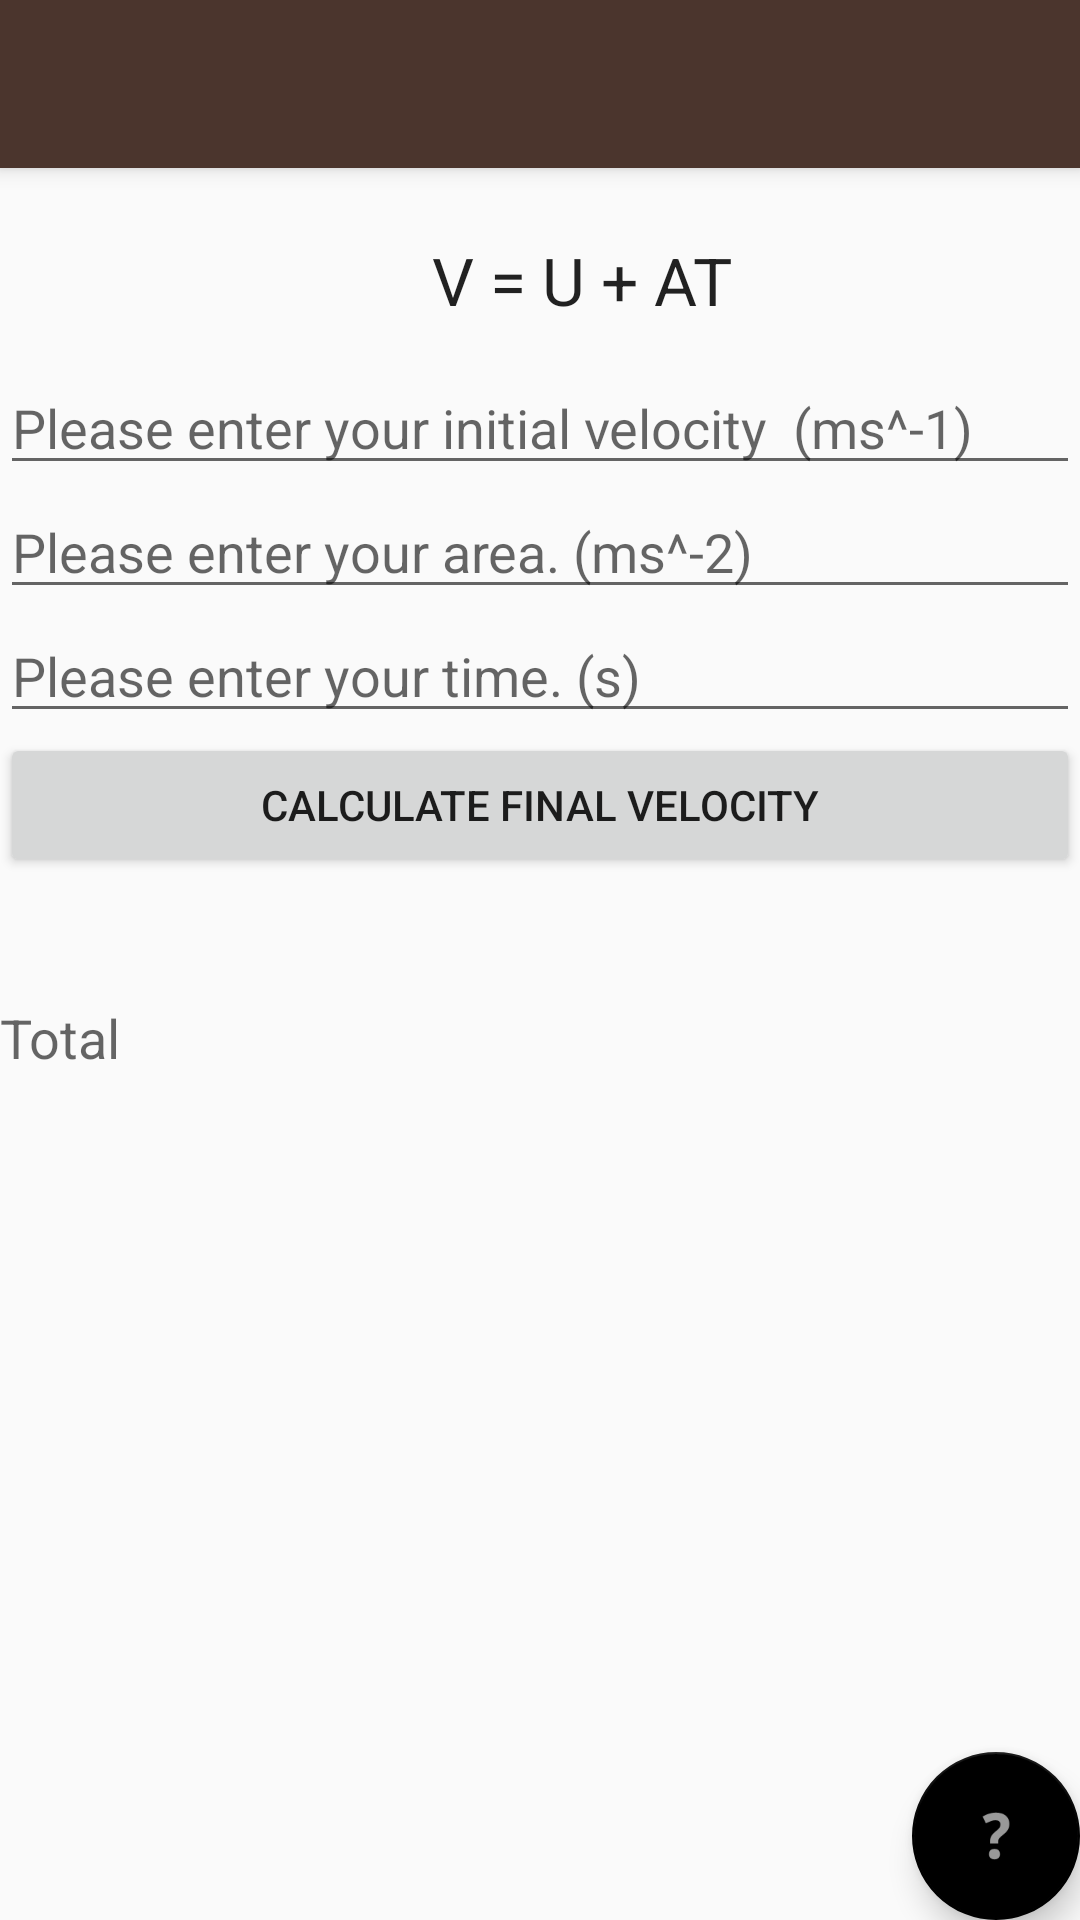

Where to tap for icons on this 1080px x 1920px app screen, as (x=x, y=y):
help: (x=996, y=1836)
